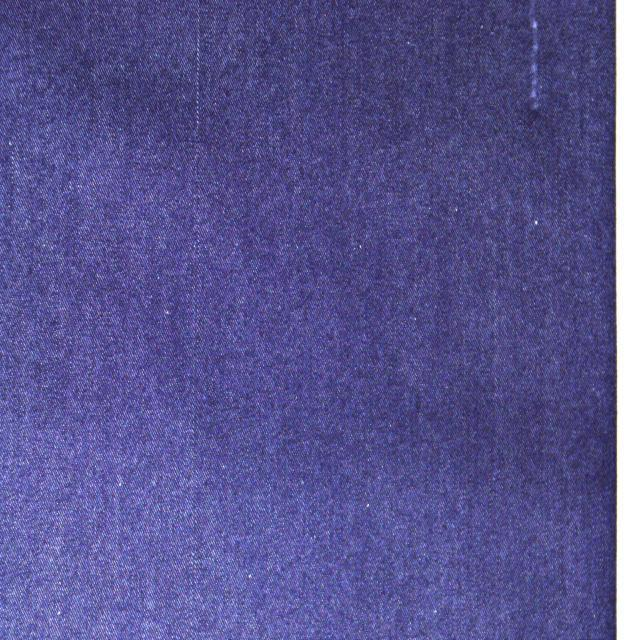pulled_or_thick_thread: (191, 0, 201, 129)
